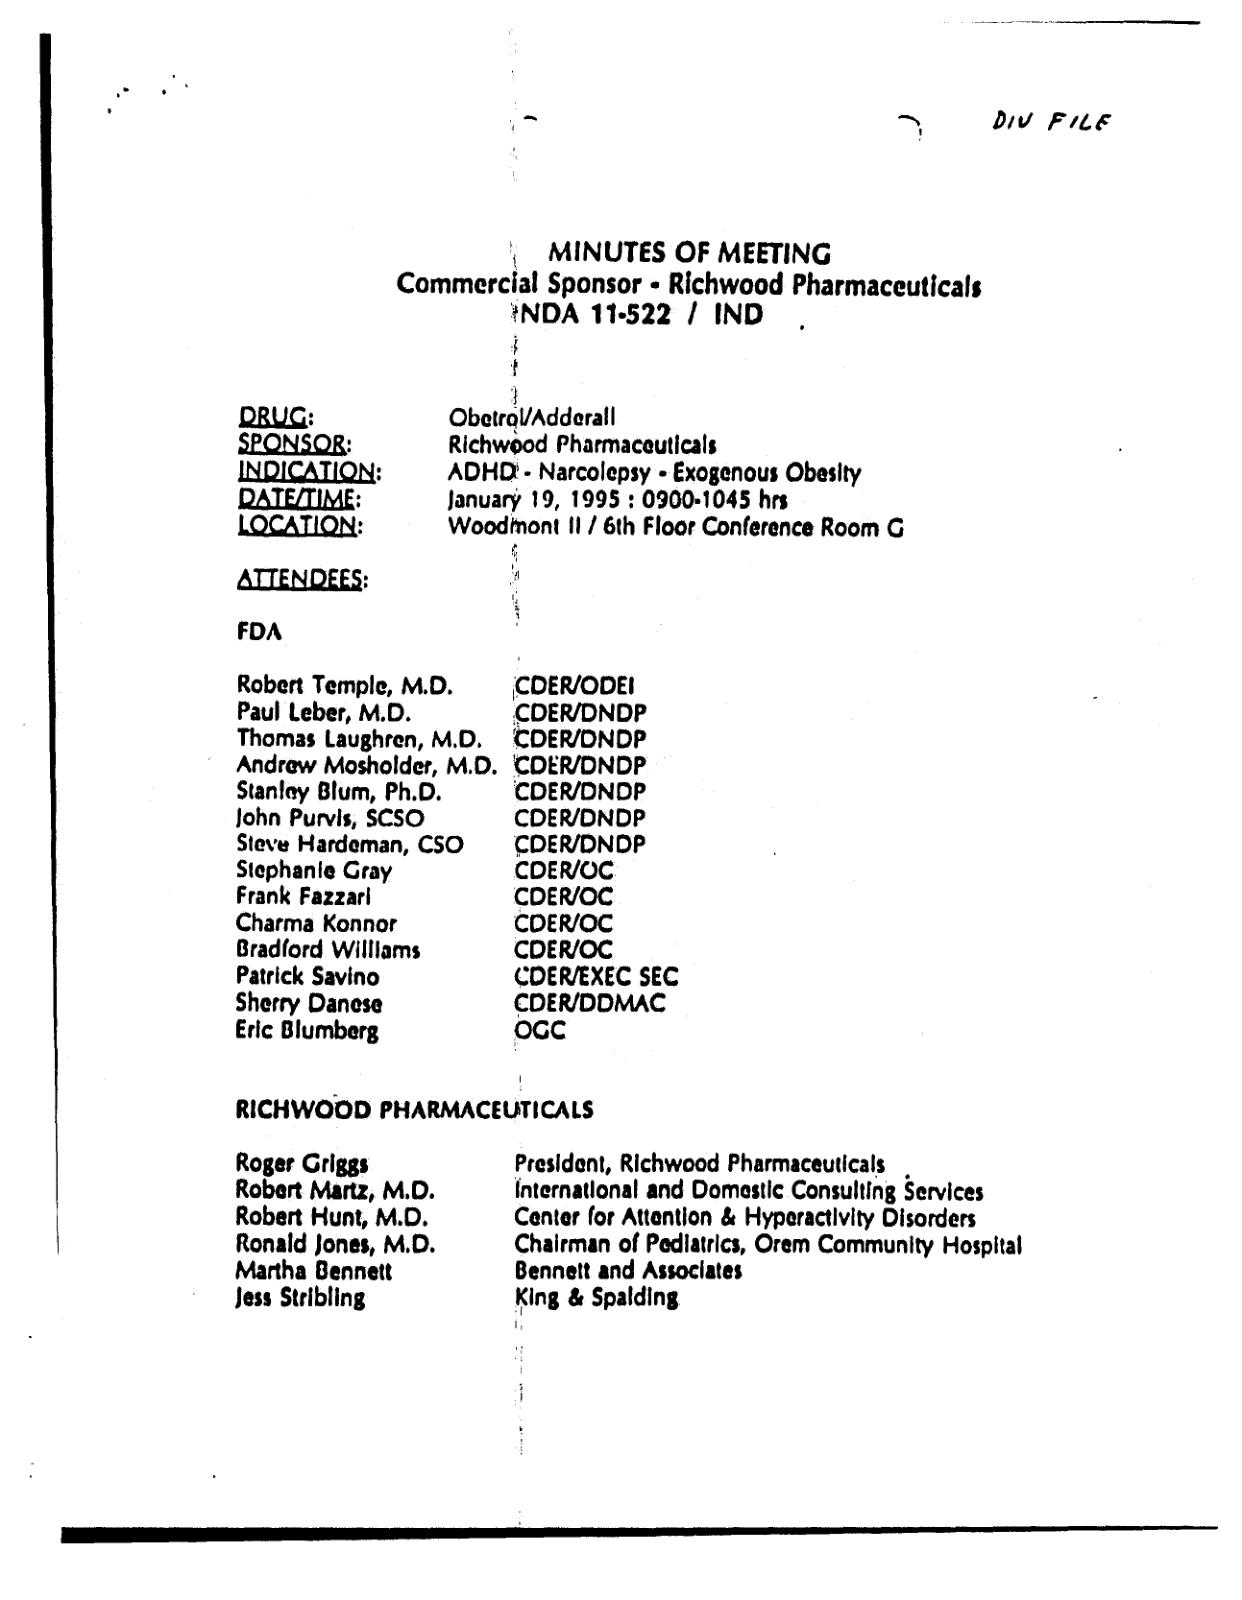nolines: (231, 671, 681, 1042), (233, 1151, 1024, 1310), (236, 401, 906, 543)
